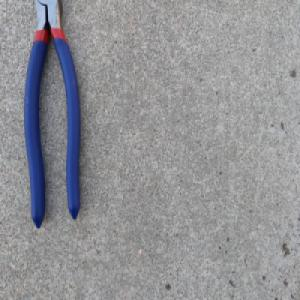Pliers: (20, 0, 81, 229)
